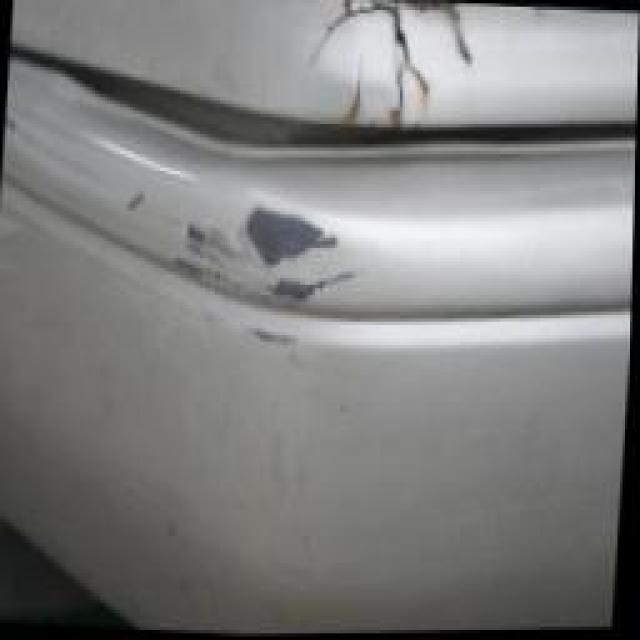Bumper: (0, 0, 488, 405)
